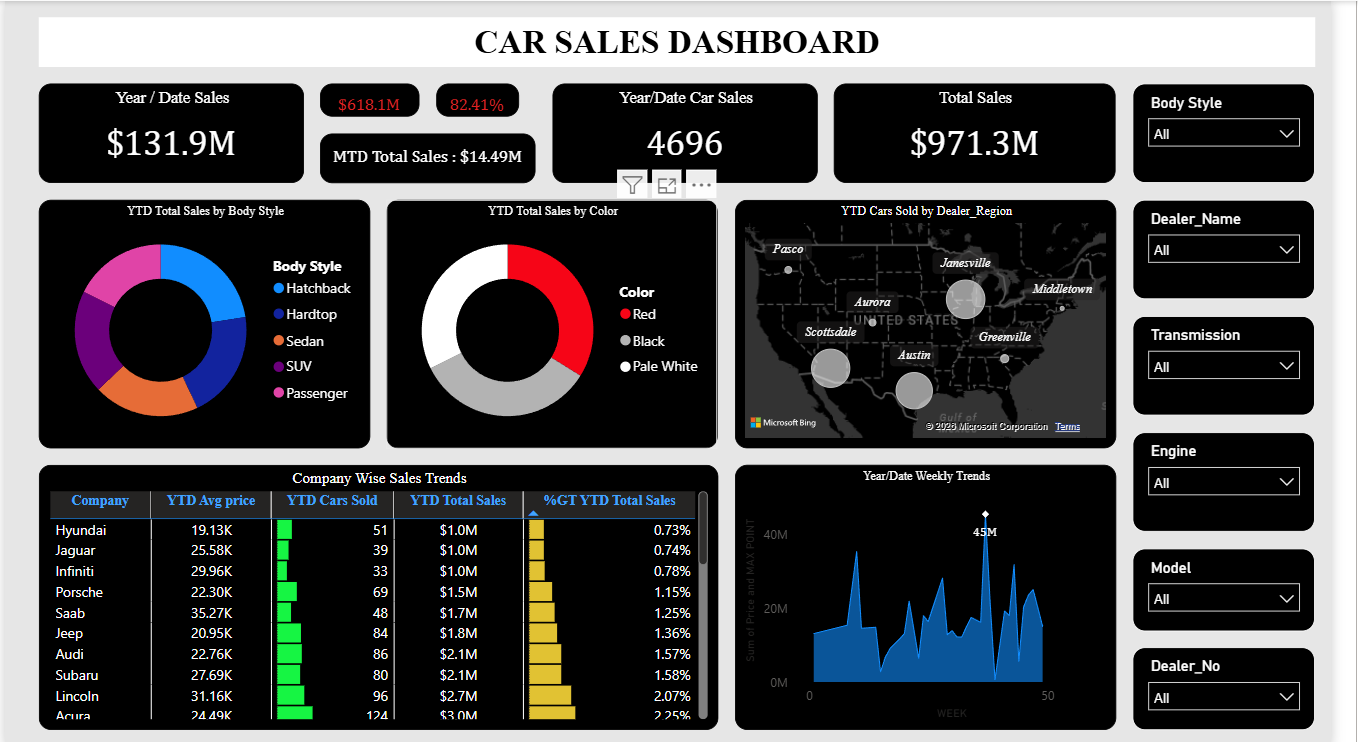

This screenshot's page, from the dashboard's own definition file:
{"tool":"powerbi","page":{"name":"Dashboard","canvas":[1280,720],"ordinal":0},"visuals":[{"type":"card","title":"Year / Date Sales","fields":{"Values":["Sheet1.YTD Total Sales"]},"box":[32,80,256,96],"z":0},{"type":"card","fields":{"Values":["Sheet1.Sales Difference"]},"box":[304,80,96,32],"z":1000},{"type":"card","fields":{"Values":["Sheet1.year to year sales growth"]},"box":[416,80,80,32],"z":2000},{"type":"card","fields":{"Values":["Sheet1.mtd kpi"]},"box":[304,128,208,48],"z":3000},{"type":"card","title":"Total Sales","fields":{"Values":["Sheet1.TOtal Sales"]},"box":[800,80,272,96],"z":4000},{"type":"card","title":"Year/Date Car Sales","fields":{"Values":["Sheet1.YTD Cars Sold"]},"box":[528,80,256,96],"z":5000},{"type":"areaChart","title":"Year/Date Weekly Trends","fields":{"Category":["Date.WEEK"],"Y":["Sum(Sheet1.Price)","Sheet1.MAX POINT"]},"box":[704,448,368,256],"z":6000},{"type":"donutChart","fields":{"Category":["Sheet1.Body Style"],"Y":["Sheet1.YTD Total Sales"]},"box":[32,192,320,240],"z":7000},{"type":"donutChart","fields":{"Category":["Sheet1.Color"],"Y":["Sheet1.YTD Total Sales"]},"box":[368,192,320,240],"z":8000},{"type":"map","fields":{"Category":["Sheet1.Dealer_Region"],"Size":["Sheet1.YTD Cars Sold"]},"box":[704,192,368,240],"z":9000},{"type":"tableEx","title":"Company Wise Sales Trends","fields":{"Values":["Sheet1.Company","Sheet1.YTD Avg price","Sheet1.YTD Cars Sold","Sheet1.YTD Total Sales1","Sheet1.YTD Total Sales"]},"box":[32,448,656,256],"z":10000},{"type":"textbox","box":[32,16,1232,48],"z":11000},{"type":"slicer","fields":{"Values":["Sheet1.Model"]},"box":[1088,528,176,80],"z":12000},{"type":"slicer","fields":{"Values":["Sheet1.Dealer_Name"]},"box":[1088,192,176,96],"z":13000},{"type":"slicer","fields":{"Values":["Sheet1.Transmission"]},"box":[1088,304,176,96],"z":14000},{"type":"slicer","fields":{"Values":["Sheet1.Engine"]},"box":[1088,416,176,96],"z":15000},{"type":"slicer","fields":{"Values":["Sheet1.Body Style"]},"box":[1088,80,176,96],"z":16000},{"type":"slicer","fields":{"Values":["Sheet1.Dealer_No "]},"box":[1088,624,176,80],"z":17000}]}

Visuals, with their boxes in screenshot pixels (x1, y1, x2, y2), scaled from the page's 1280x720 canvas onto the 1358x742 screenshot:
"Year / Date Sales" card: 34 82 306 181
card - Sheet1.Sales Difference: 323 82 424 115
card - Sheet1.year to year sales growth: 441 82 526 115
card - Sheet1.mtd kpi: 323 132 543 181
"Total Sales" card: 849 82 1137 181
"Year/Date Car Sales" card: 560 82 832 181
"Year/Date Weekly Trends" areaChart: 747 462 1137 726
donutChart - Sheet1.Body Style x Sheet1.YTD Total Sales: 34 198 373 445
donutChart - Sheet1.Color x Sheet1.YTD Total Sales: 390 198 730 445
map - Sheet1.Dealer_Region x Sheet1.YTD Cars Sold: 747 198 1137 445
"Company Wise Sales Trends" tableEx: 34 462 730 726
textbox: 34 16 1341 66
slicer - Sheet1.Model: 1154 544 1341 627
slicer - Sheet1.Dealer_Name: 1154 198 1341 297
slicer - Sheet1.Transmission: 1154 313 1341 412
slicer - Sheet1.Engine: 1154 429 1341 528
slicer - Sheet1.Body Style: 1154 82 1341 181
slicer - Sheet1.Dealer_No : 1154 643 1341 726
